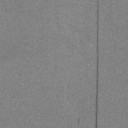surface scratch: (94, 0, 100, 128), (78, 118, 80, 124)
